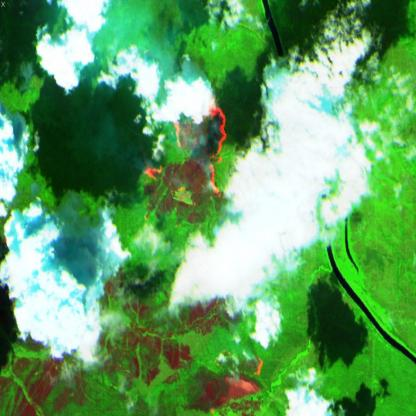fire: (141, 92, 234, 199), (201, 354, 269, 387)
